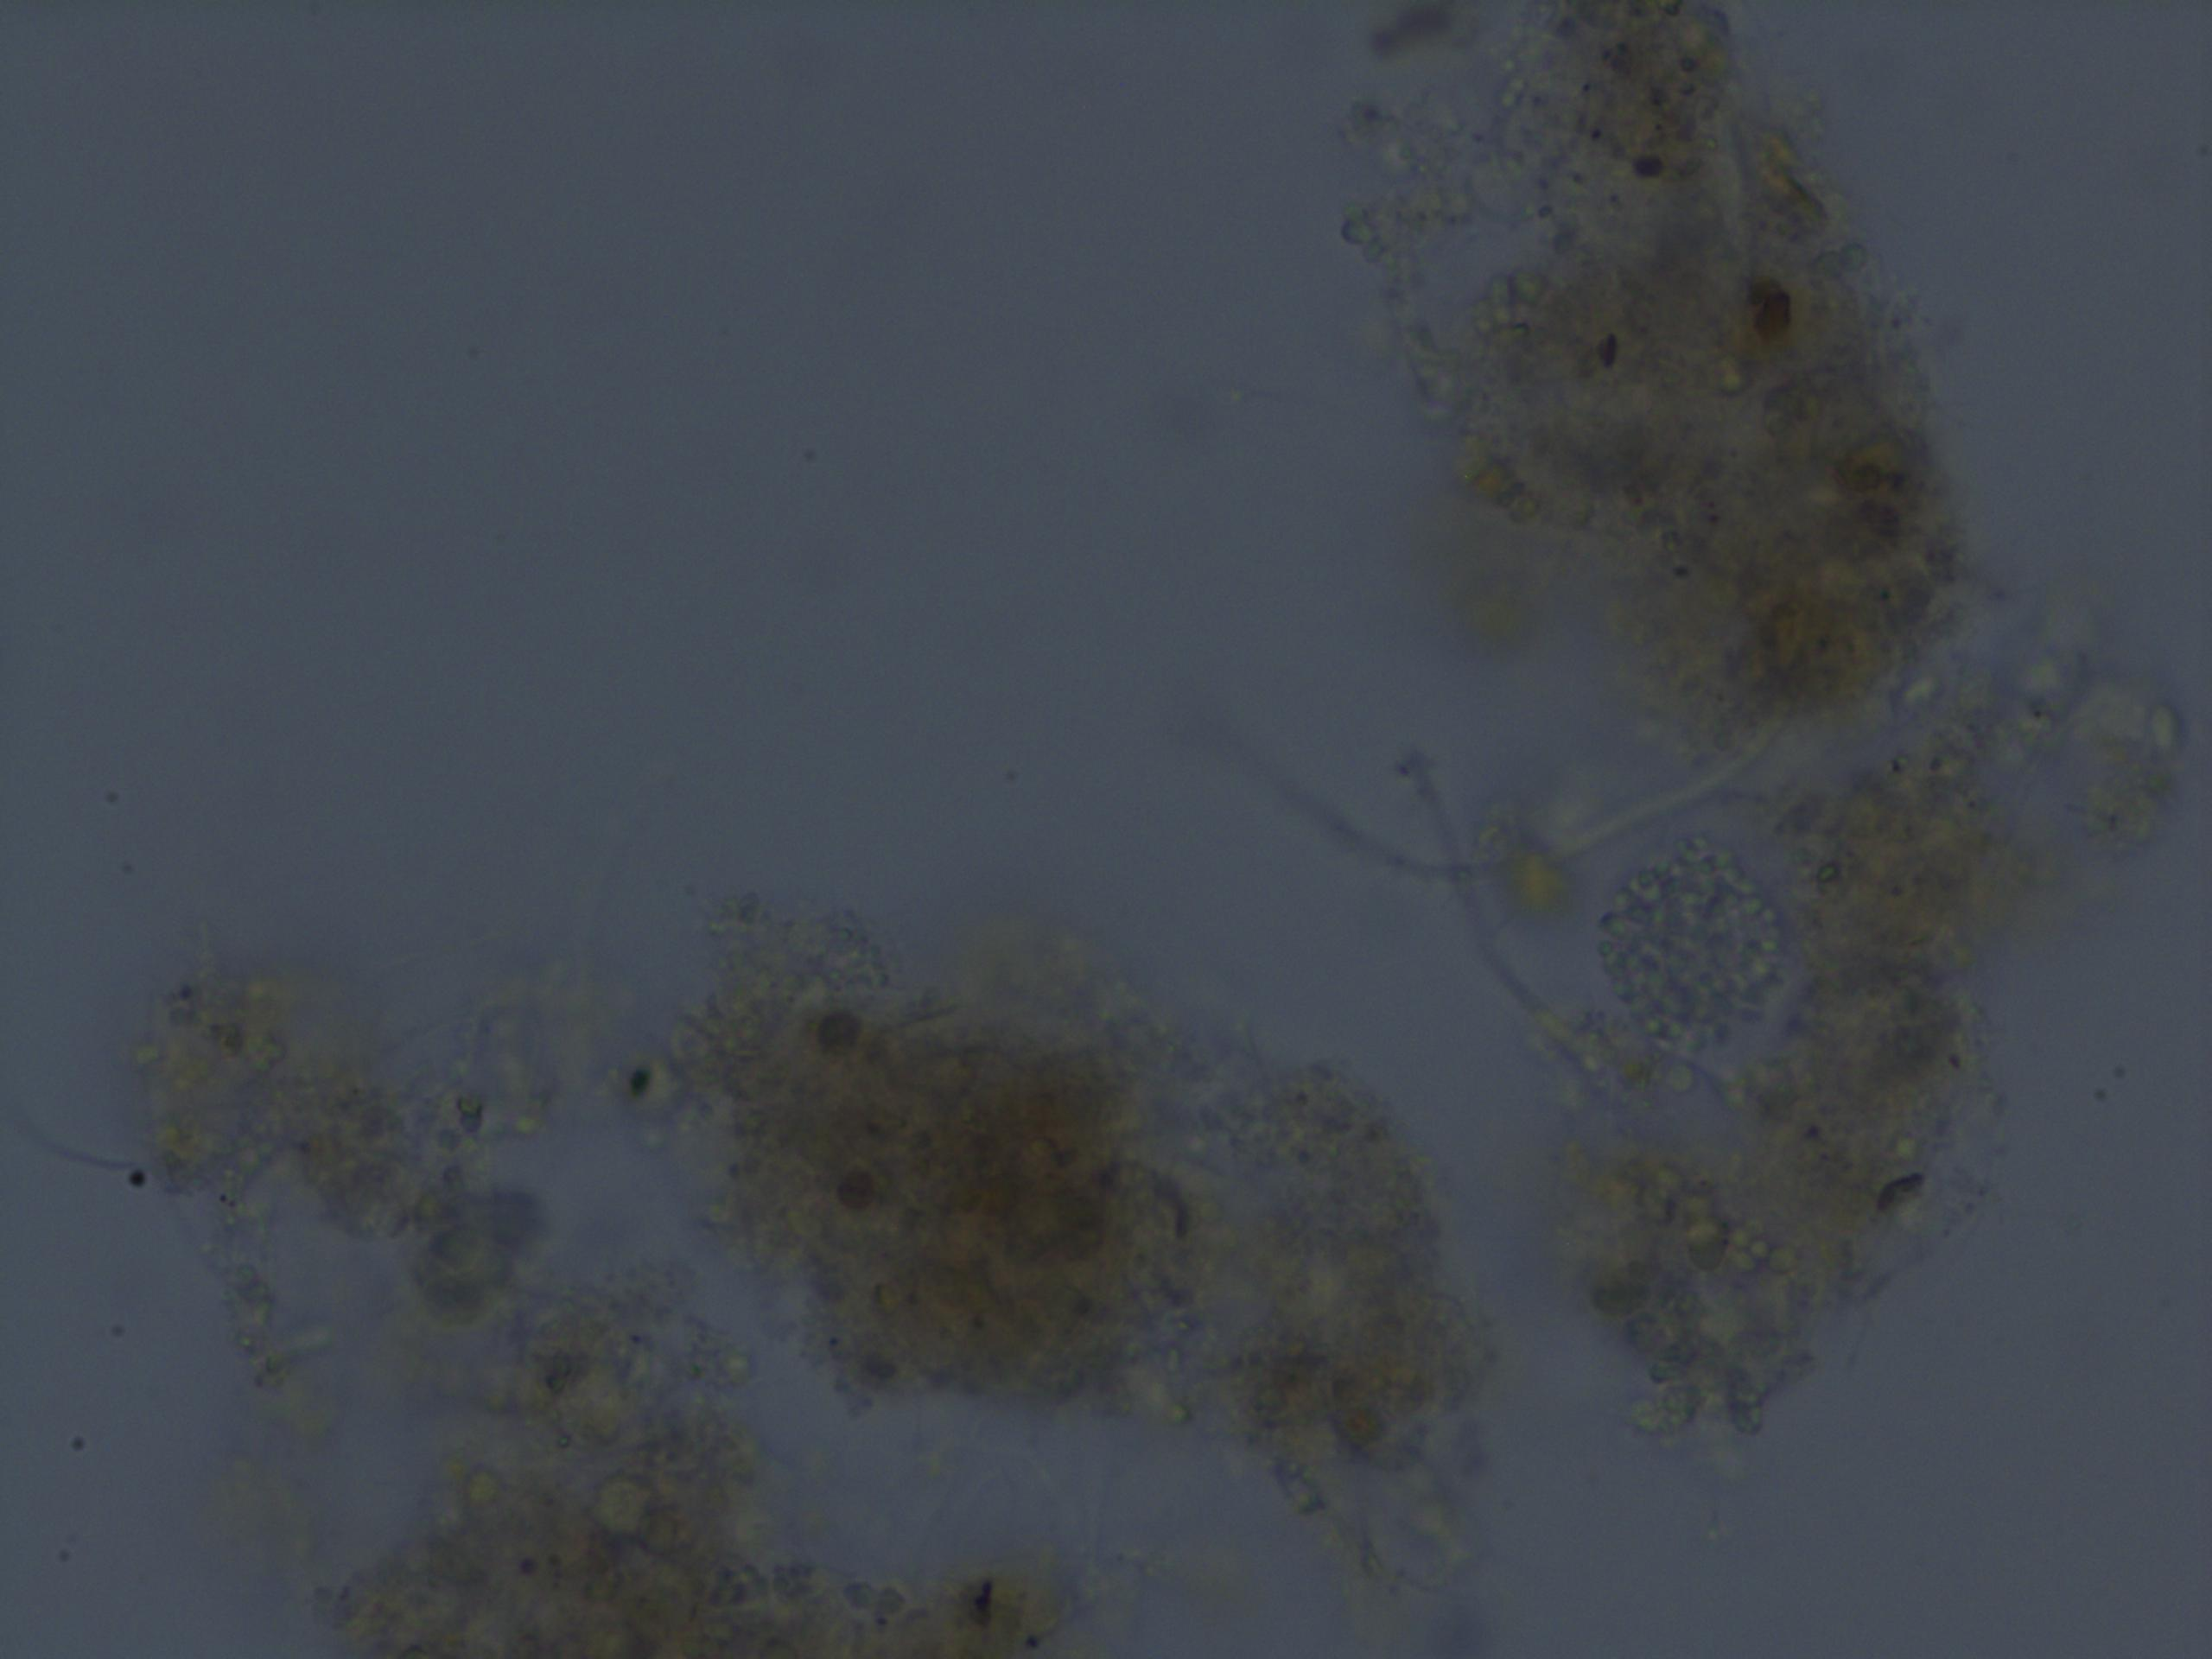filament: (1346, 748, 1609, 1114), (1207, 713, 1752, 889)
open_floc: (139, 0, 2188, 1659)
